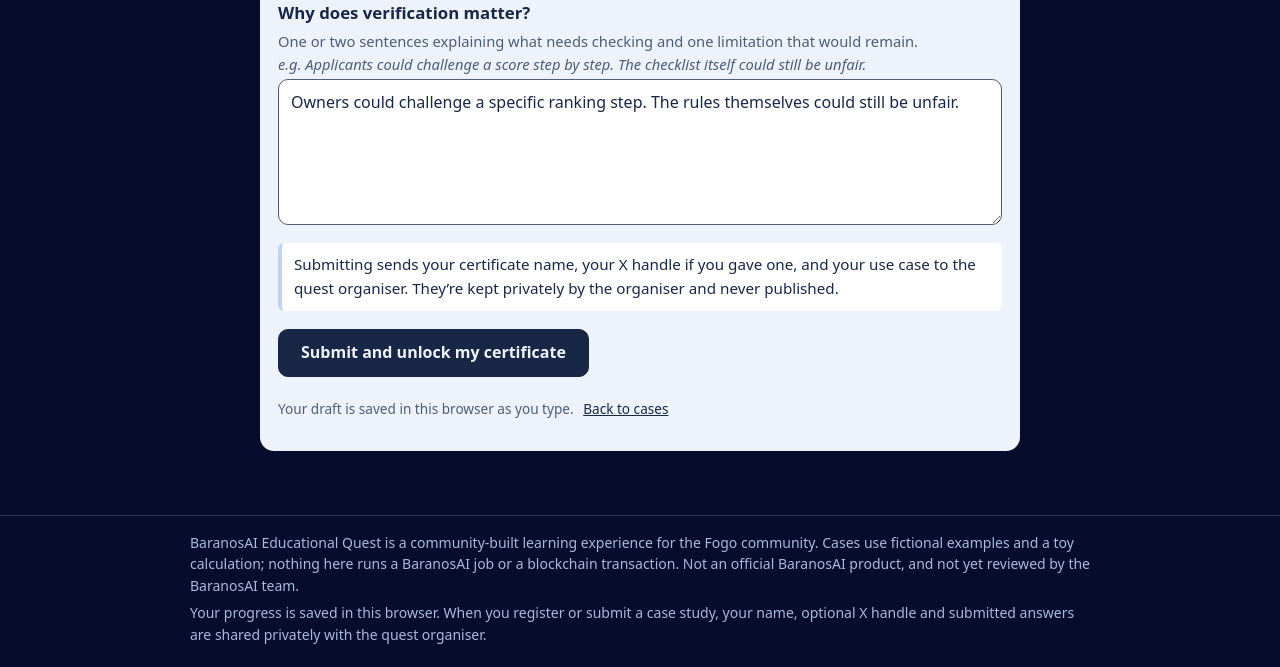
Test: use case › shows “Submitting…” and ignores repeated clicks while a submission is in progress
(page scrolled)
Click the button "Submit and unlock my certificate": (433, 353) [278, 329, 589, 377]
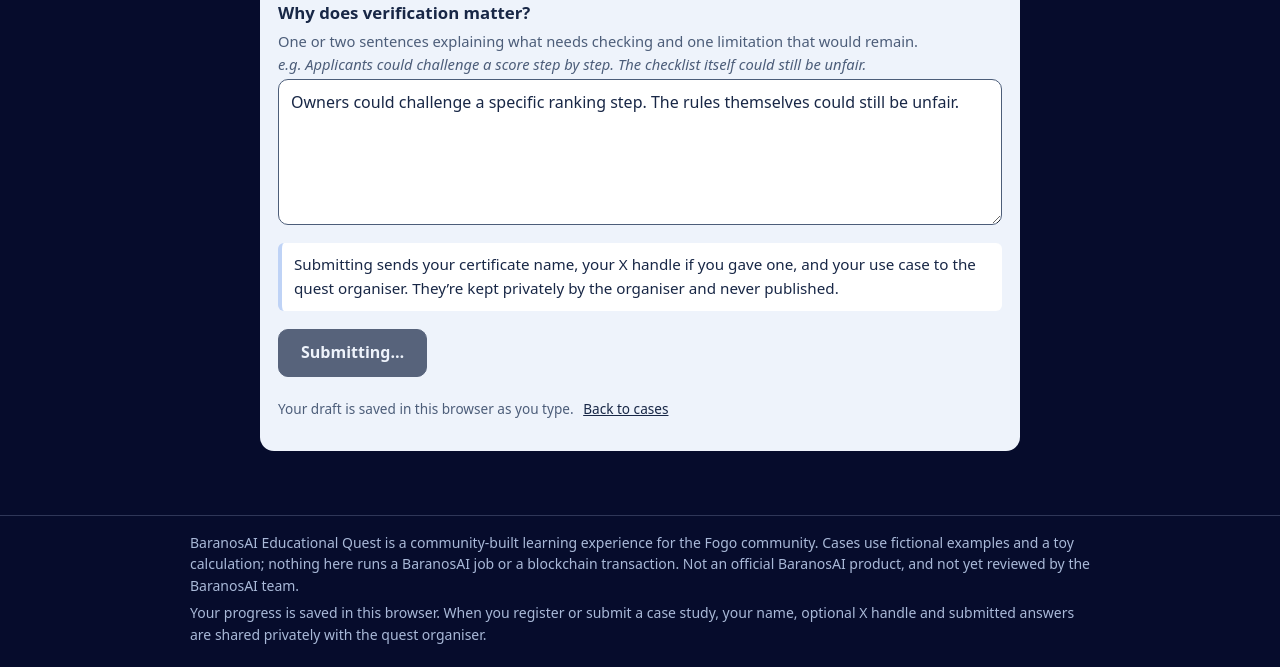
Now the button "Submitting…" is disabled
Click the button "Submitting…": (353, 353) [278, 329, 427, 377]
(page scrolled)
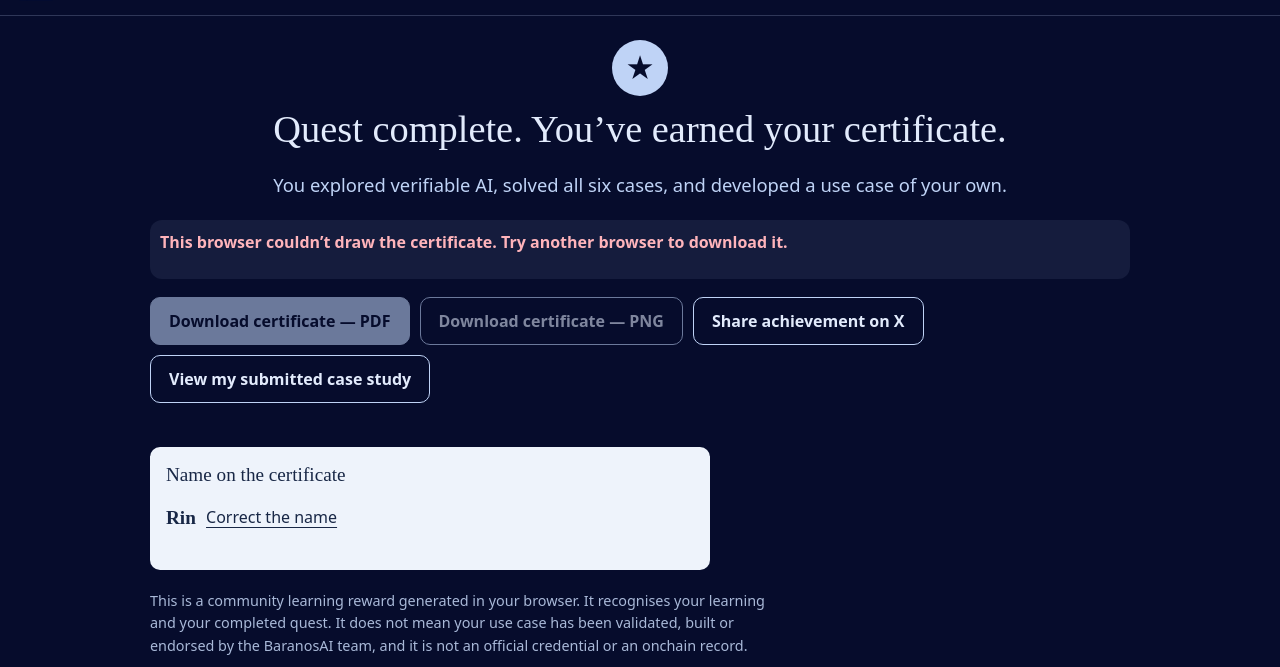
Now the heading "Quest complete. You’ve earned your certificate." is shown, box [273, 108, 1007, 150]
